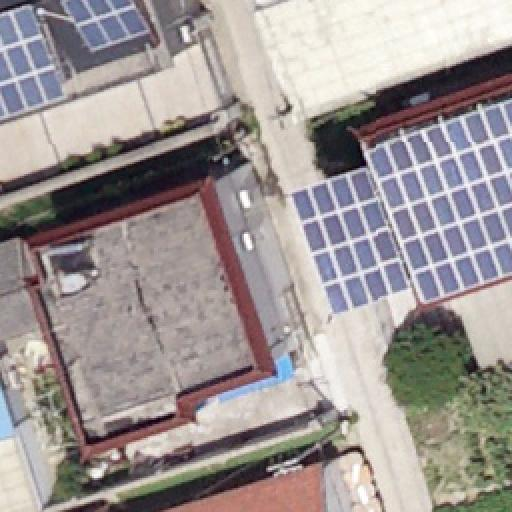solar-panel: (288, 99, 512, 317), (0, 5, 68, 123), (59, 1, 149, 55)
